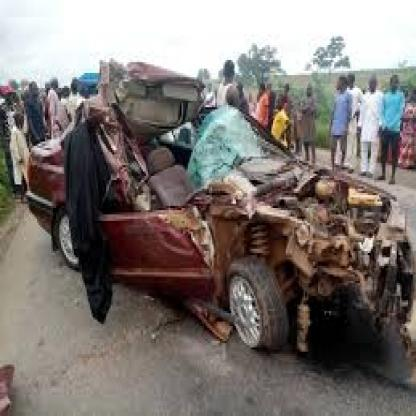accident: (23, 53, 416, 371)
